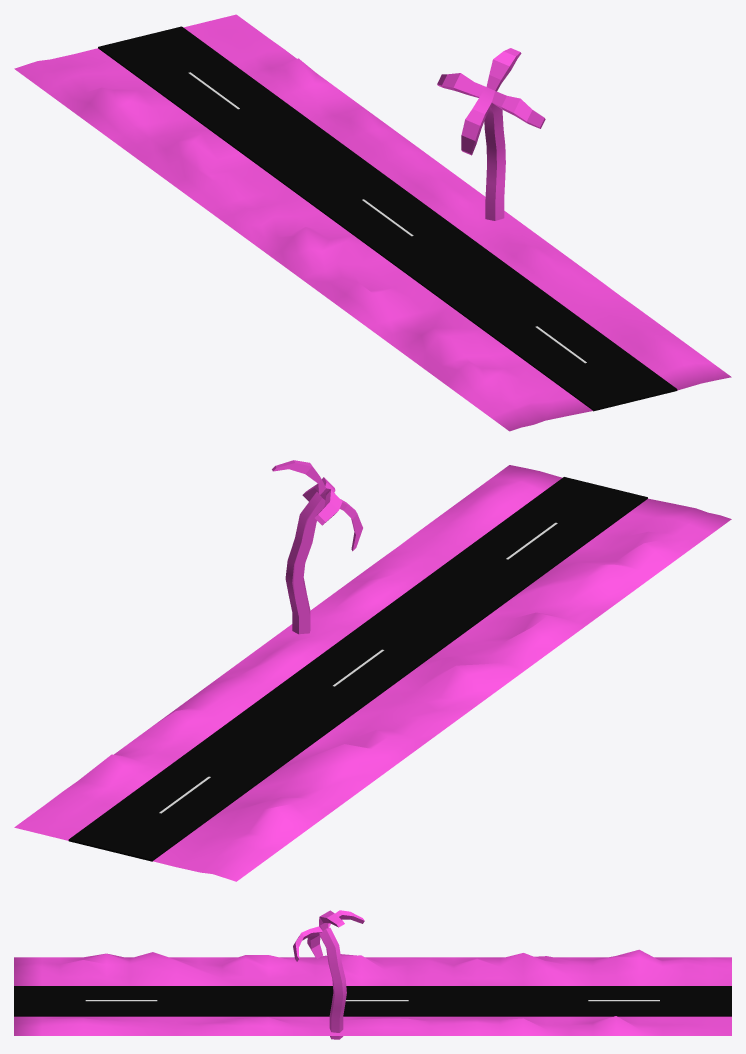
Rendered from Starting-point-1-multiplayer.fbx.
The picture shows the model from 3 angles, top to bottom: view 1: azimuth 30°, elevation 25°; view 2: azimuth 150°, elevation 25°; view 3: azimuth 270°, elevation 25°; orthographic projection. The views are drawn at different scales.
Visible parts, largest first — view 1: Road, Enviroment.002, Enviroment.001, PalmTreeTopLeft.001, PalmTree_Left.001; view 2: Road, Enviroment.002, Enviroment.001, PalmTree_Left.001, PalmTreeTopLeft.001; view 3: Road, Enviroment.002, Enviroment.001, PalmTree_Left.001, PalmTreeTopLeft.001, CenterLine.
Part boxes in pixels (bbox=[...]): Road: bbox=[98, 26, 677, 411]; Enviroment.002: bbox=[14, 48, 592, 431]; Enviroment.001: bbox=[183, 14, 731, 390]; PalmTreeTopLeft.001: bbox=[437, 48, 545, 155]; PalmTree_Left.001: bbox=[484, 104, 505, 220]; Road: bbox=[68, 477, 647, 861]; Enviroment.002: bbox=[153, 498, 731, 881]; Enviroment.001: bbox=[14, 465, 562, 840]; PalmTree_Left.001: bbox=[285, 491, 325, 634]; PalmTreeTopLeft.001: bbox=[272, 460, 362, 551]; Road: bbox=[14, 986, 731, 1016]; Enviroment.002: bbox=[14, 949, 731, 985]; Enviroment.001: bbox=[14, 1016, 731, 1035]; PalmTree_Left.001: bbox=[319, 927, 346, 1039]; PalmTreeTopLeft.001: bbox=[293, 910, 364, 961]; CenterLine: bbox=[85, 1000, 659, 1001].
Bounding box in the file's own units: 1650 × 1167 × 6000.
